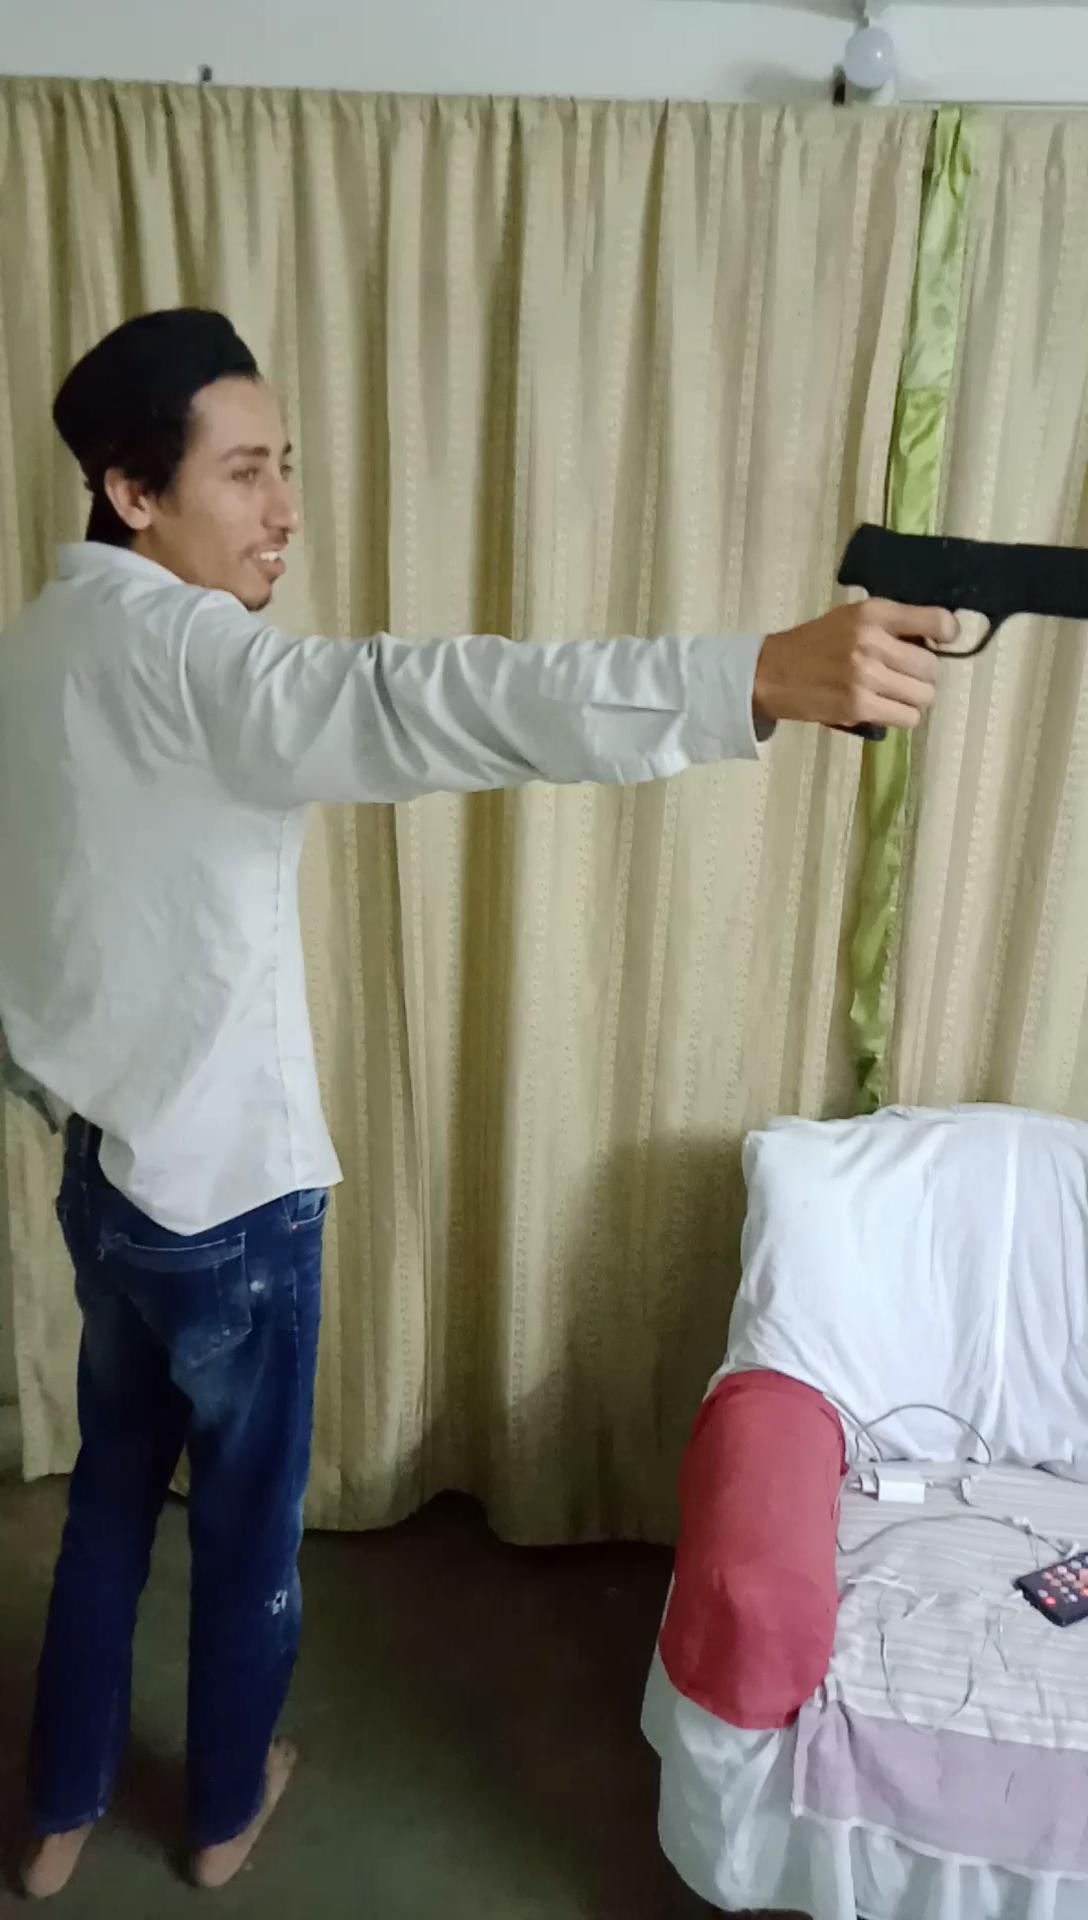criminal: (0, 301, 1088, 1894)
weapon: (811, 512, 1088, 752)
